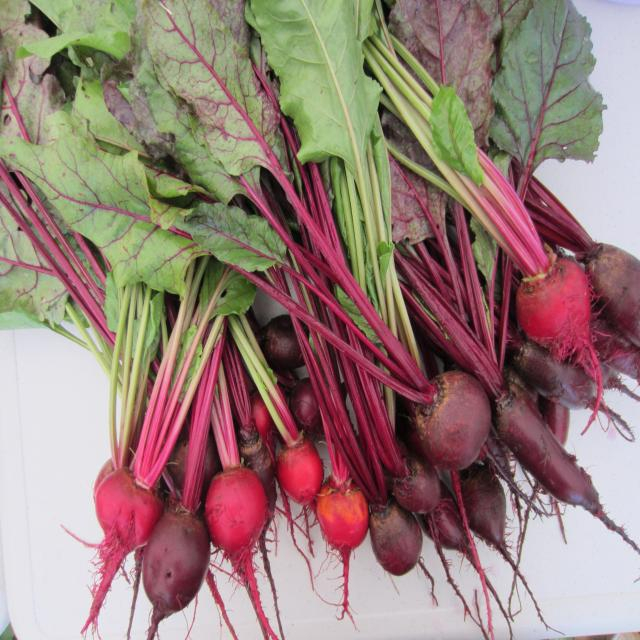Beetroot: (365, 0, 448, 624), (305, 0, 368, 609), (498, 356, 632, 576), (211, 112, 266, 640), (65, 441, 166, 640), (457, 450, 563, 633), (509, 228, 604, 428), (266, 248, 320, 584), (133, 392, 204, 640), (418, 476, 526, 639), (406, 330, 486, 494), (580, 233, 640, 365), (254, 282, 325, 379)
